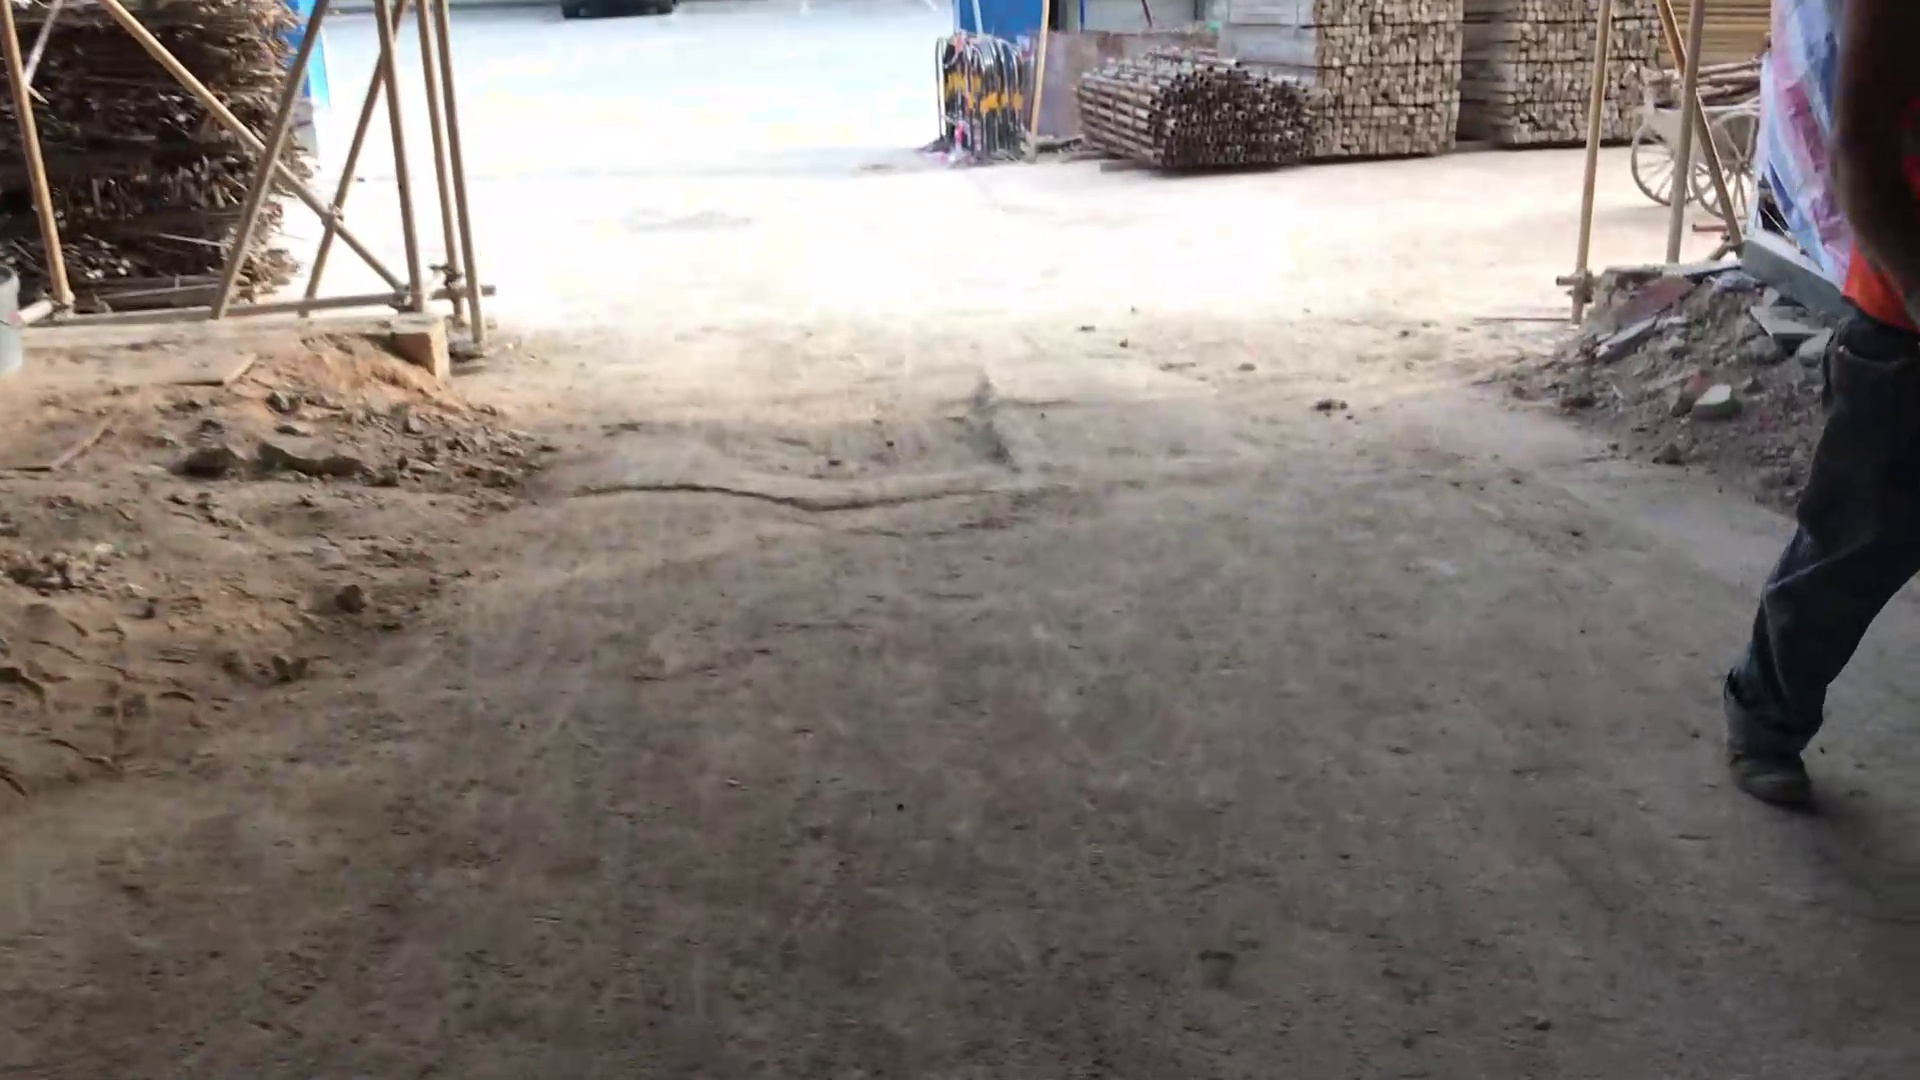person: (1718, 1, 1920, 808)
scaffold: (1067, 44, 1321, 177)
wood: (1304, 1, 1660, 165)
